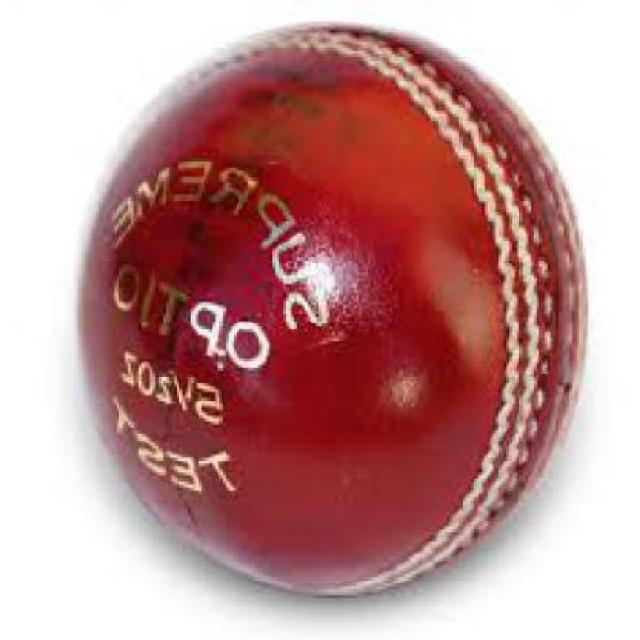ball: (61, 1, 600, 612)
